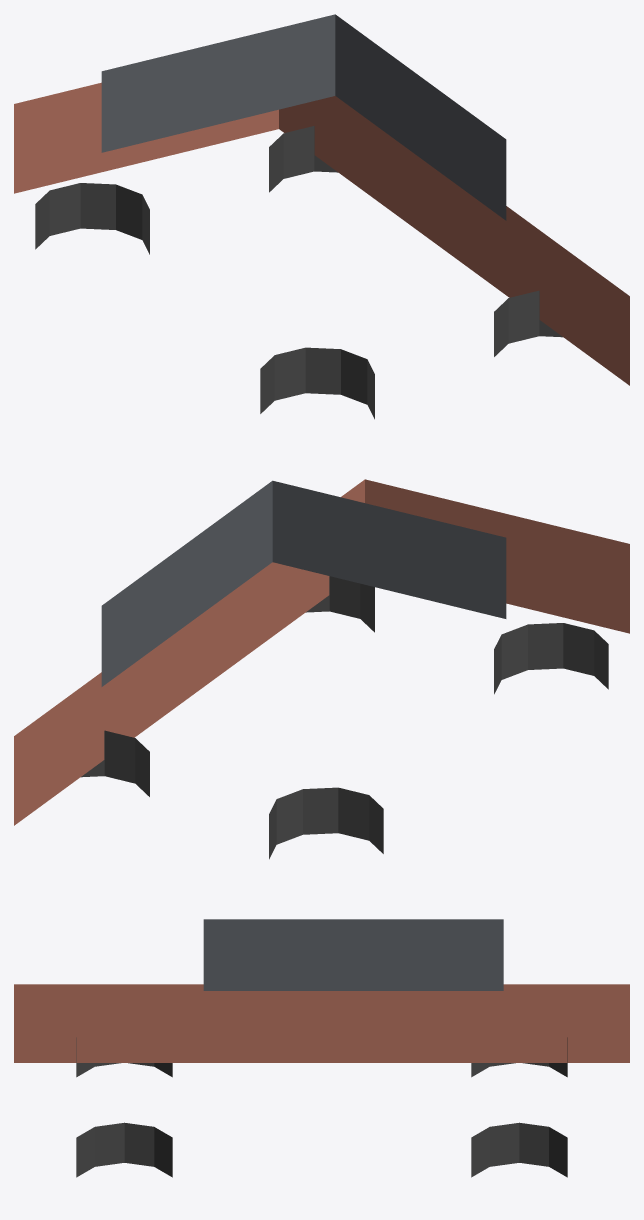
File: vehicle.glb
3 renders of one model, top to bottom at view 1: azimuth 30°, elevation 25°; view 2: azimuth 150°, elevation 25°; view 3: azimuth 270°, elevation 25°, orthographic. The views are drawn at different scales.
Visible parts, largest first — view 1: asset; view 2: asset; view 3: asset.
Boxes of the visible parts, box(x1,y1,x2,y2) form: asset: box(14, 14, 629, 419); asset: box(14, 479, 629, 859); asset: box(14, 919, 629, 1177).
Size of the model in its own units: 2.14 by 1.15 by 3.9.
